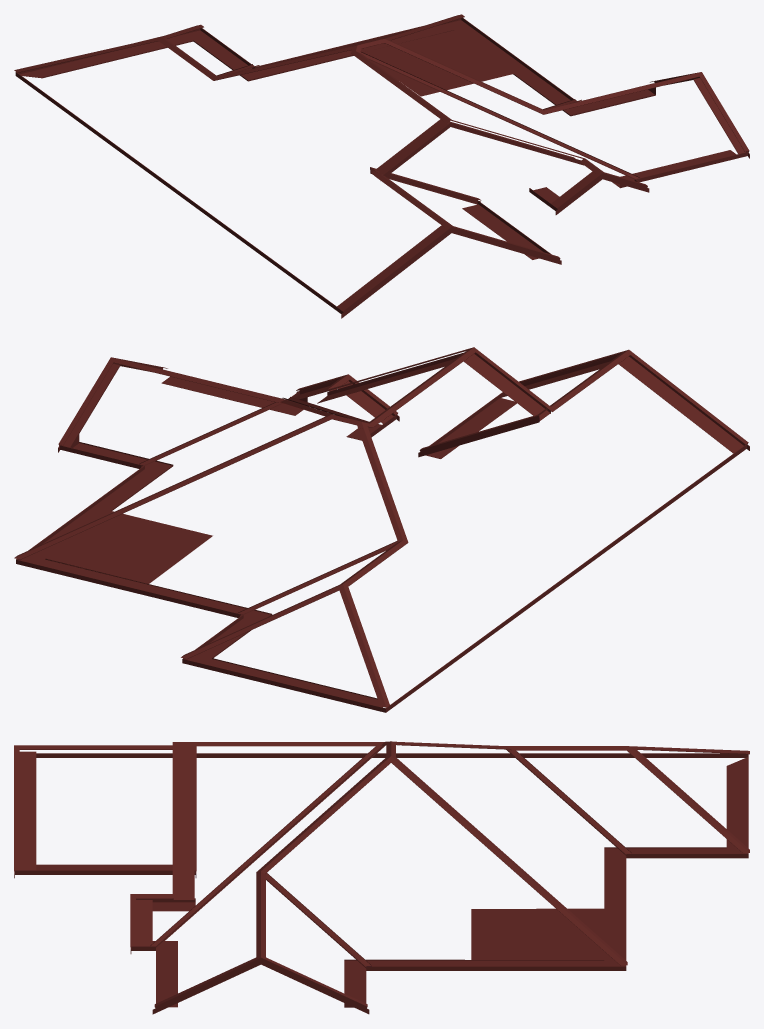
Rendered from Roof_Capping.fbx.
3 renders of one model, top to bottom at view 1: azimuth 30°, elevation 25°; view 2: azimuth 150°, elevation 25°; view 3: azimuth 270°, elevation 25°, orthographic. The views are drawn at different scales.
Parts seen in each view (by area): view 1: Roof_Capping; view 2: Roof_Capping; view 3: Roof_Capping.
Boxes of the visible parts, <box> form: Roof_Capping: <box>14,14,749,318</box>; Roof_Capping: <box>14,347,749,712</box>; Roof_Capping: <box>14,741,749,1014</box>.
Bounding box in the file's own units: 1774 × 378 × 2150.
